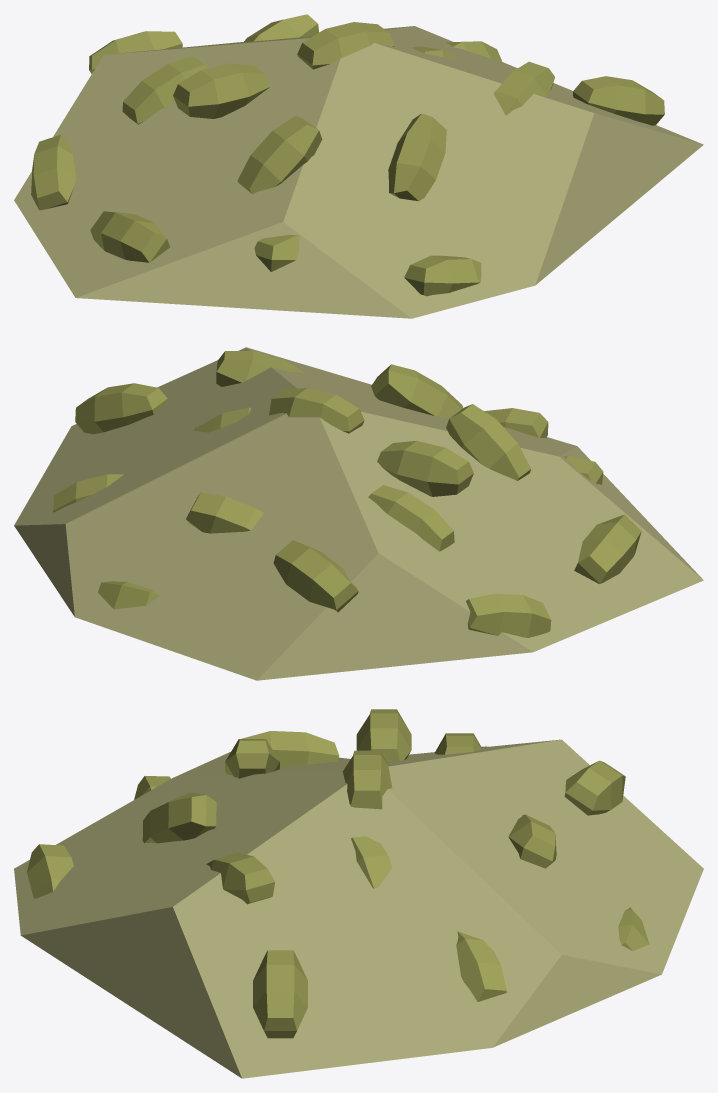
The model's file is RiceRaw.glb.
The picture shows the model from 3 angles, top to bottom: view 1: azimuth 30°, elevation 25°; view 2: azimuth 150°, elevation 25°; view 3: azimuth 270°, elevation 25°; orthographic projection. The views are drawn at different scales.
Visible parts, largest first — view 1: Cube; view 2: Cube; view 3: Cube.
Boxes of the visible parts, box(x1,y1,x2,y2) form: Cube: box(14, 14, 703, 318); Cube: box(14, 347, 703, 680); Cube: box(14, 709, 703, 1078).
Size of the model in its own units: 0.2451 by 0.0591 by 0.2151.
